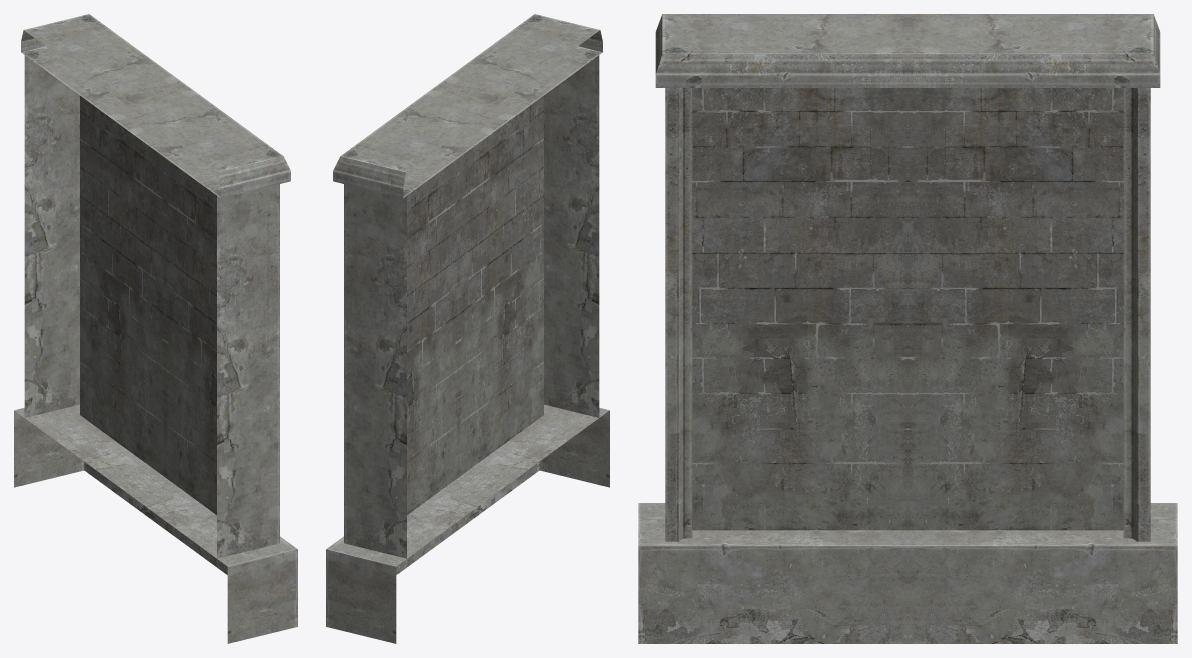
File: bg_lut_lucastle_librarywindow01_sm_psy.FBX
3 views of the same model, side by side, from view 1: azimuth 30°, elevation 25°; view 2: azimuth 150°, elevation 25°; view 3: azimuth 270°, elevation 25° (orthographic). The views are drawn at different scales.
Visible parts, largest first — view 1: bg_lut_lucastle_librarywindow01_sm_psy; view 2: bg_lut_lucastle_librarywindow01_sm_psy; view 3: bg_lut_lucastle_librarywindow01_sm_psy.
Boxes of the visible parts, box(x1,y1,x2,y2) form: bg_lut_lucastle_librarywindow01_sm_psy: box(14, 14, 297, 643); bg_lut_lucastle_librarywindow01_sm_psy: box(326, 14, 609, 643); bg_lut_lucastle_librarywindow01_sm_psy: box(638, 14, 1177, 643).
Bounding box in the file's own units: 76 × 480 × 400.
